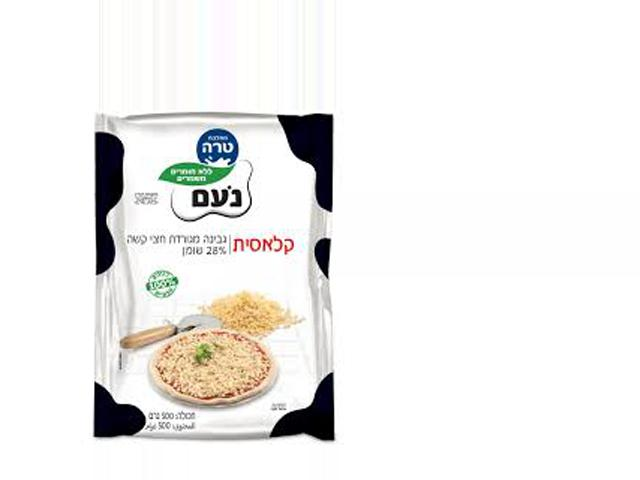cheese: (88, 110, 340, 446)
